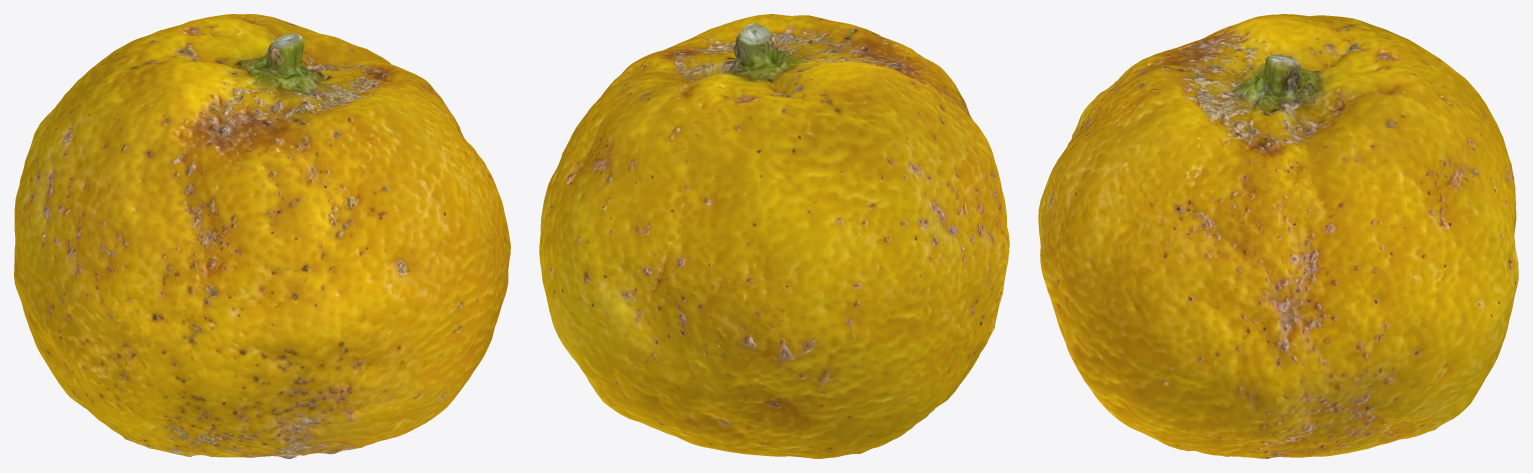
File: yuzu.glb
3 views of the same model, side by side, from view 1: azimuth 30°, elevation 25°; view 2: azimuth 150°, elevation 25°; view 3: azimuth 270°, elevation 25° (orthographic).
Visible parts, largest first — view 1: Object_2; view 2: Object_2; view 3: Object_2.
Boxes of the visible parts, left/top/right/bottom form: Object_2: left=14, top=14, right=510, bottom=458; Object_2: left=539, top=14, right=1009, bottom=458; Object_2: left=1038, top=14, right=1518, bottom=458.
Bounding box in the file's own units: 0.0576 × 0.0526 × 0.0587.
1 material, 1 textured.
